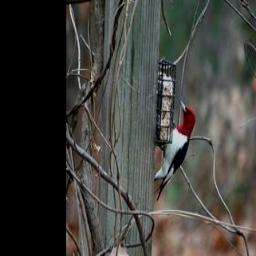Woodpecker: (149, 94, 199, 204)
